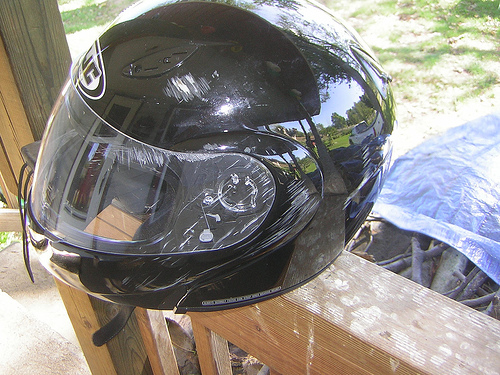helmet: (64, 8, 369, 287)
